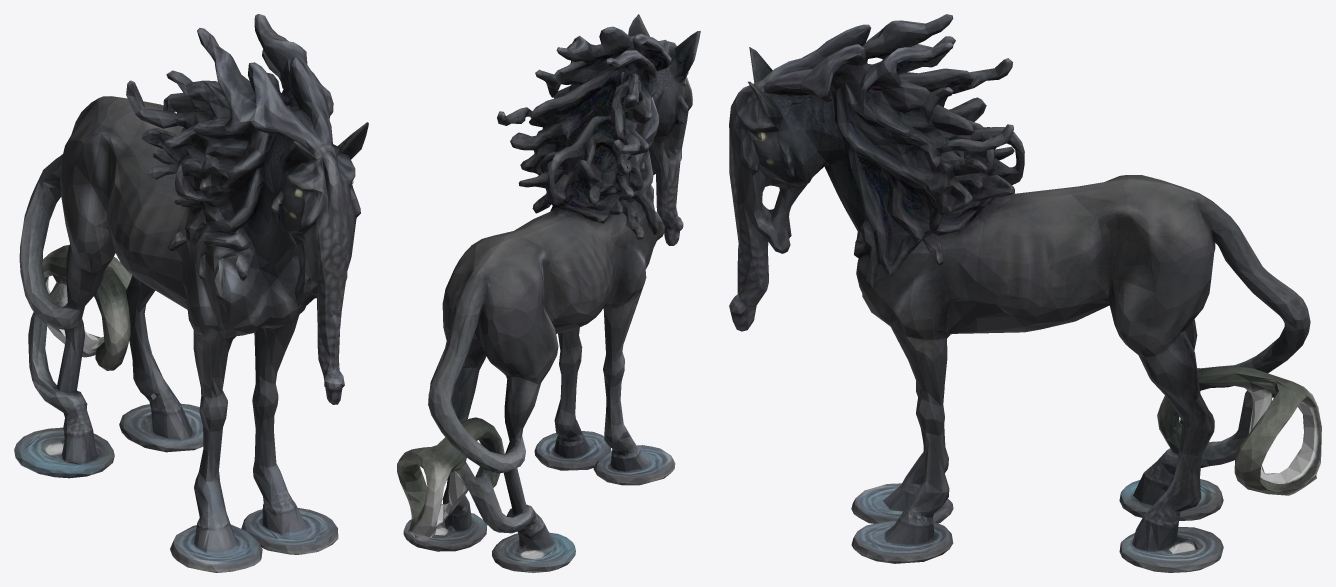
File: mothmara__dreadMare.glb
3 renders of one model, left to right at view 1: azimuth 30°, elevation 25°; view 2: azimuth 150°, elevation 25°; view 3: azimuth 270°, elevation 25°, orthographic. The views are drawn at different scales.
Visible parts, largest first — view 1: world; view 2: world; view 3: world.
Boxes of the visible parts, left/top/right/bottom form: world: left=14, top=14, right=368, bottom=572; world: left=397, top=14, right=700, bottom=572; world: left=729, top=14, right=1321, bottom=572.
Size of the model in its own units: 0.3695 by 0.9308 by 0.9995.
Materials: 1 (1 with a texture image).
